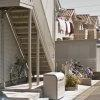stairs: (1, 3, 51, 72)
